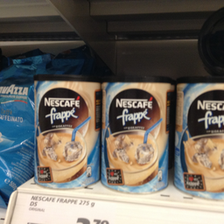coffee: (100, 74, 173, 194), (33, 72, 101, 192), (172, 76, 224, 200)
